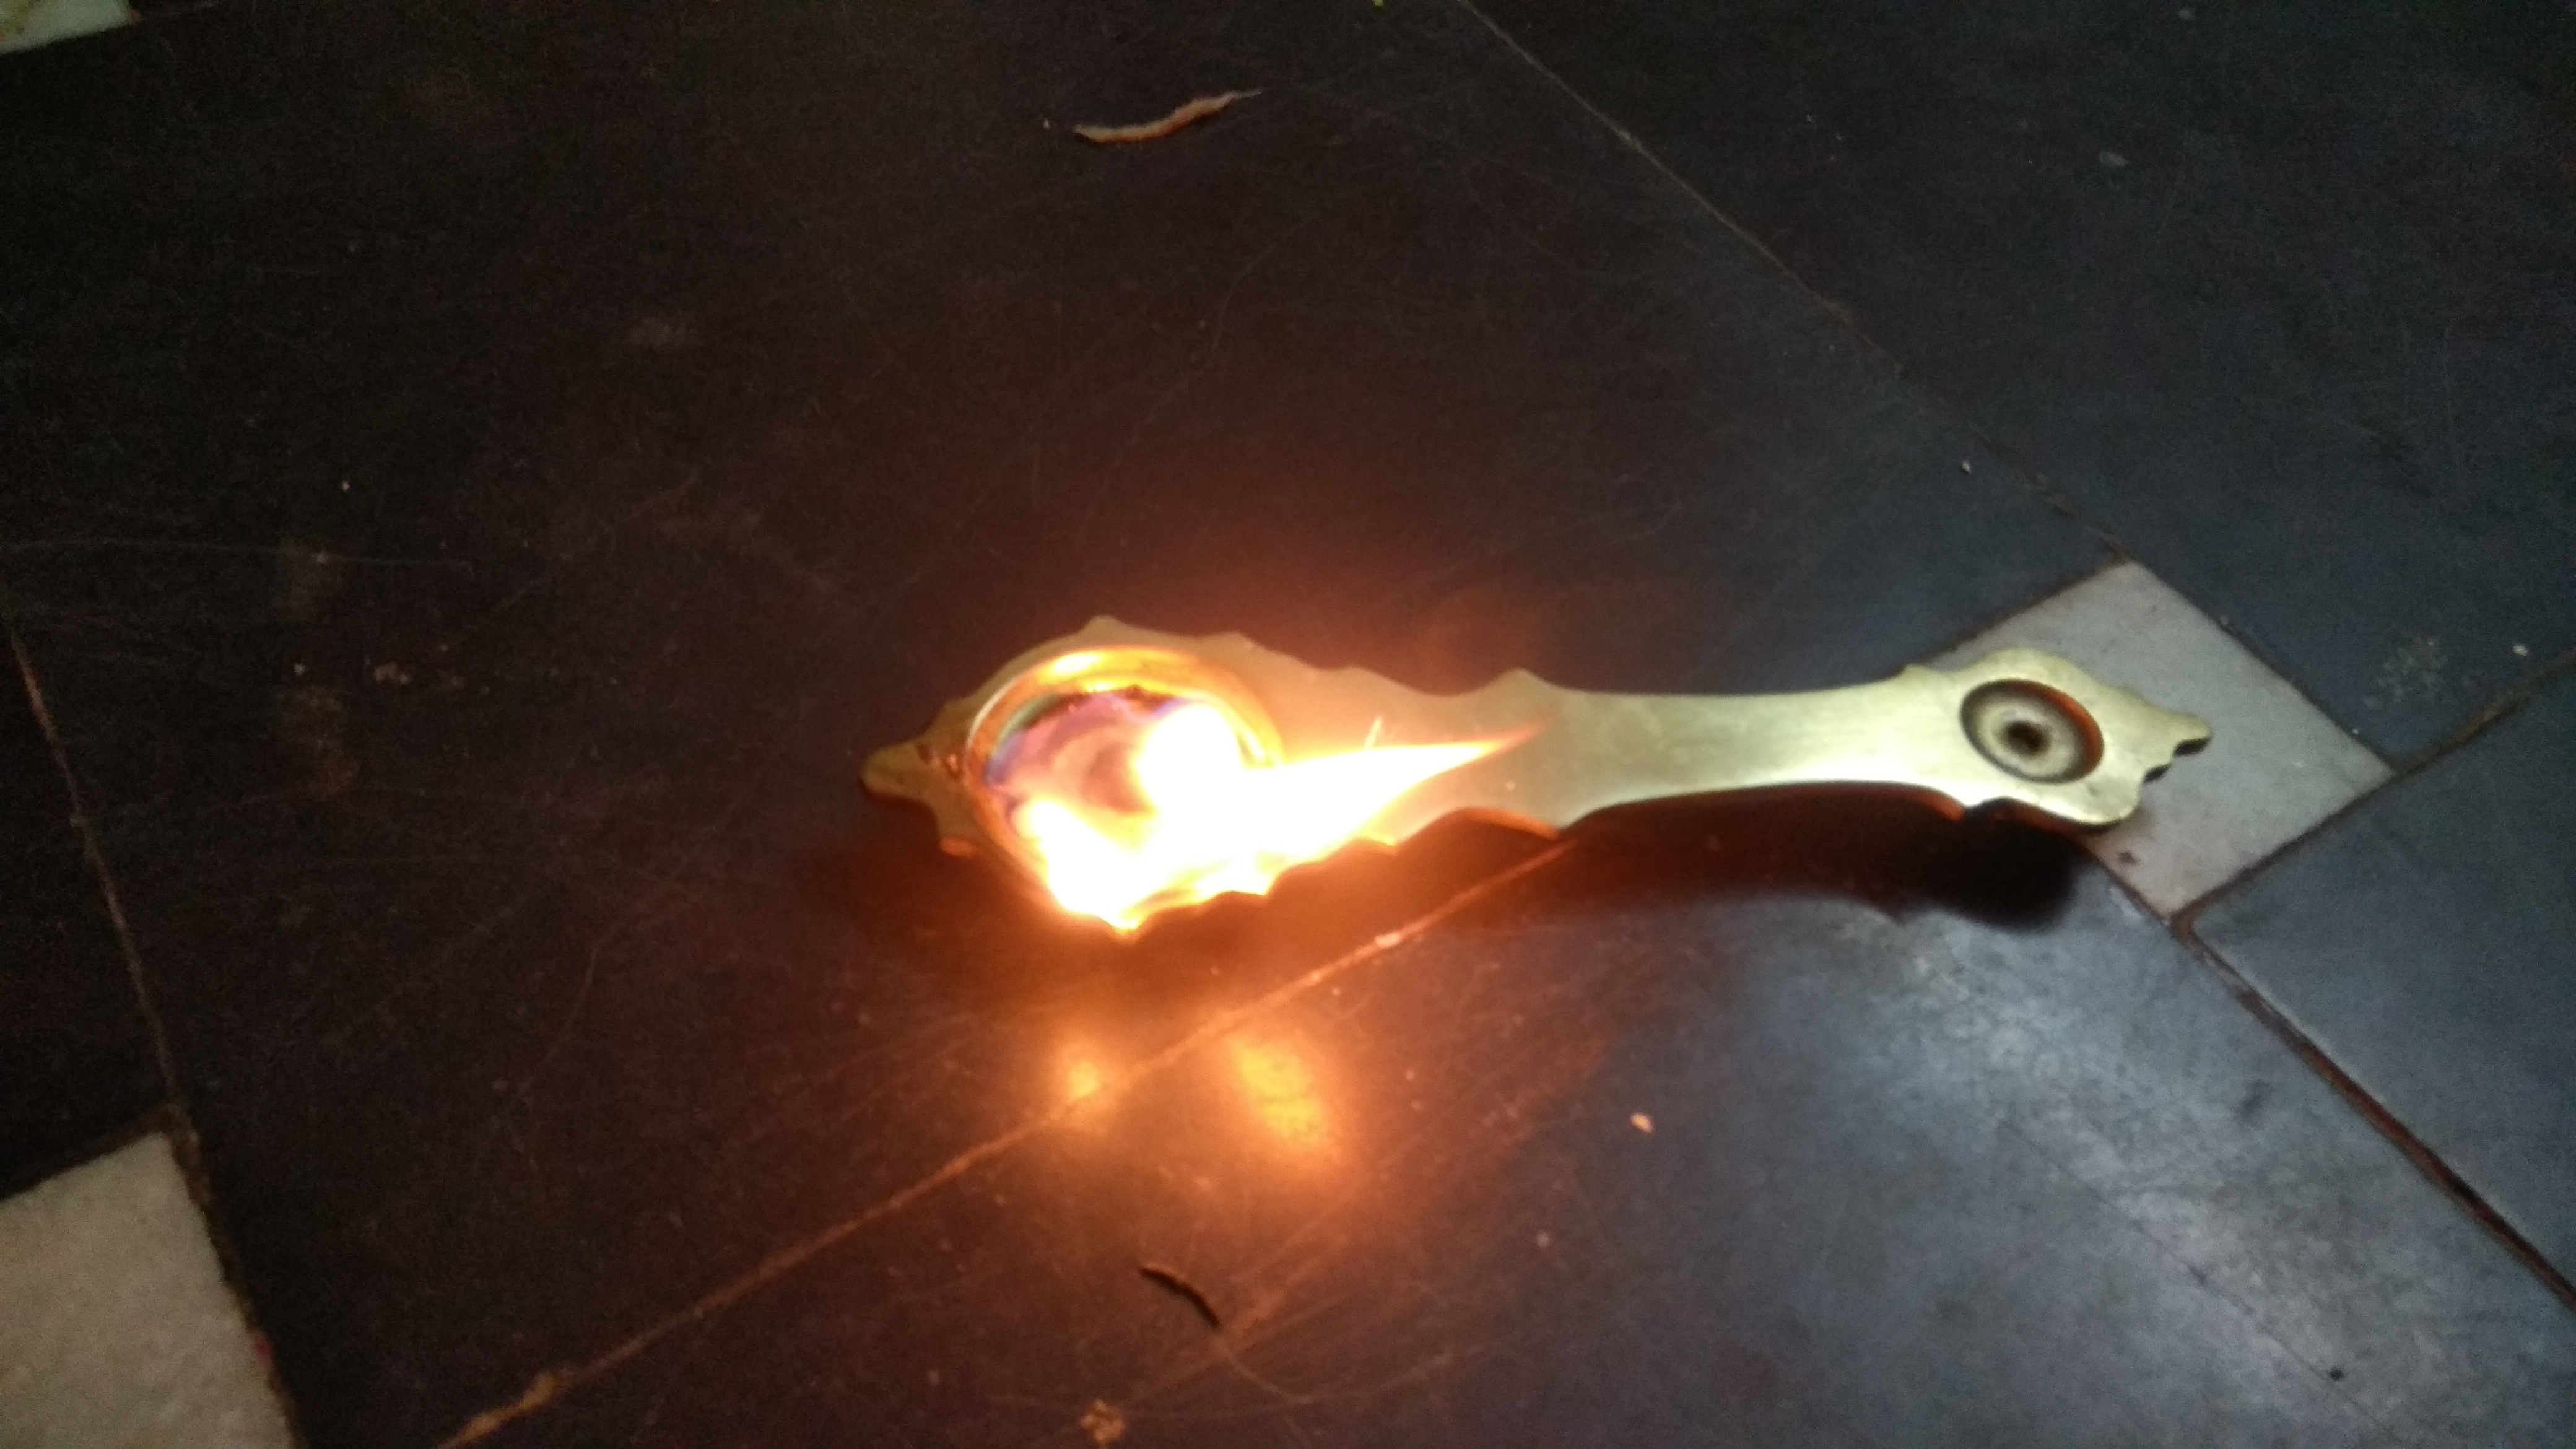Fire: (1003, 679, 1534, 920)
